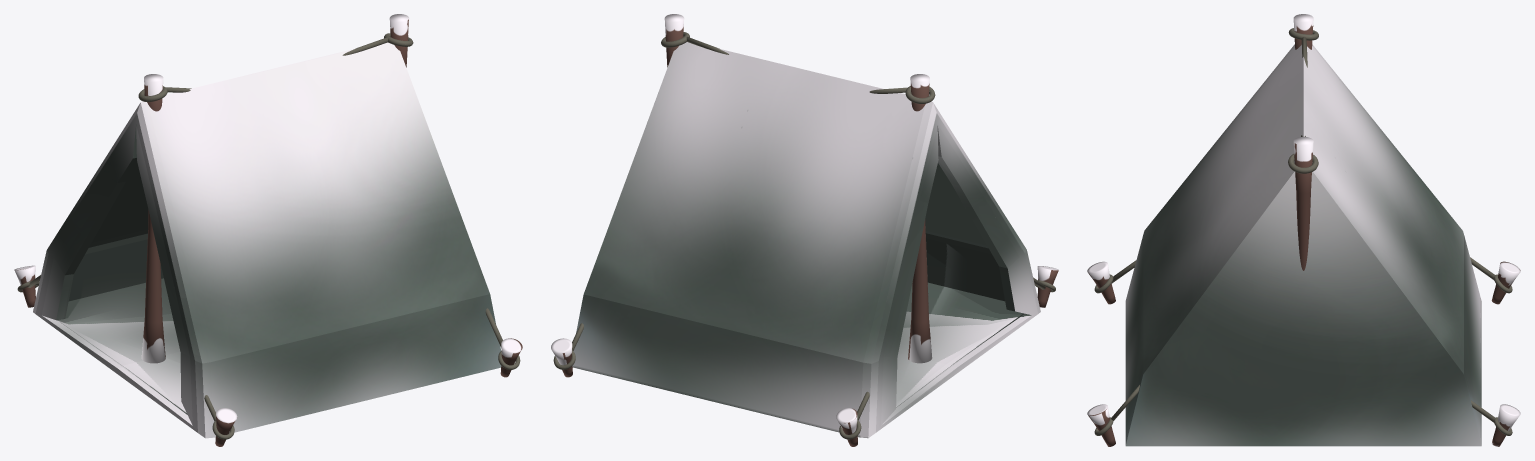
File: Tent file Baked.fbx
3 views of the same model, side by side, from view 1: azimuth 30°, elevation 25°; view 2: azimuth 150°, elevation 25°; view 3: azimuth 270°, elevation 25° (orthographic). The views are drawn at different scales.
Parts seen in each view (by area): view 1: Cube, Cylinder.009, Torus.002; view 2: Cube, Cylinder.009, Torus.002; view 3: Cube, Cylinder.009, Torus.002.
Boxes of the visible parts, left/top/right/bottom form: Cube: left=33, top=42, right=501, bottom=438; Cylinder.009: left=14, top=14, right=522, bottom=446; Torus.002: left=17, top=33, right=520, bottom=439; Cube: left=572, top=42, right=1040, bottom=438; Cylinder.009: left=551, top=14, right=1058, bottom=446; Torus.002: left=553, top=32, right=1055, bottom=439; Cube: left=1125, top=44, right=1481, bottom=446; Cylinder.009: left=1087, top=14, right=1520, bottom=446; Torus.002: left=1094, top=28, right=1512, bottom=435.
Size of what is drawn, in the model's own units: 237 by 217 by 285.
3 materials, 3 textured.
